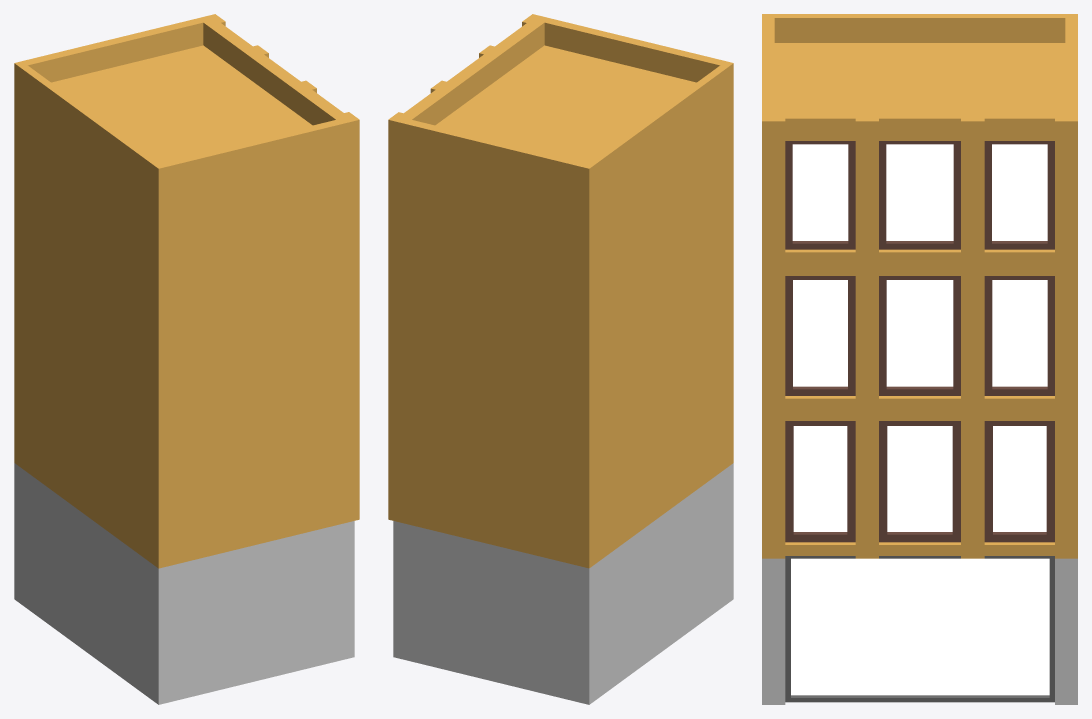
File: House 2.3.fbx
The picture shows the model from 3 angles, left to right: view 1: azimuth 30°, elevation 25°; view 2: azimuth 150°, elevation 25°; view 3: azimuth 270°, elevation 25°; orthographic projection. The views are drawn at different scales.
Visible parts, largest first — view 1: House 2.003; view 2: House 2.003; view 3: House 2.003.
Part boxes in pixels (x1,y1,x2,y2): House 2.003: [14, 14, 359, 704]; House 2.003: [388, 14, 733, 704]; House 2.003: [762, 14, 1077, 704].
Bounding box in the file's own units: 804 × 2049 × 1001.
